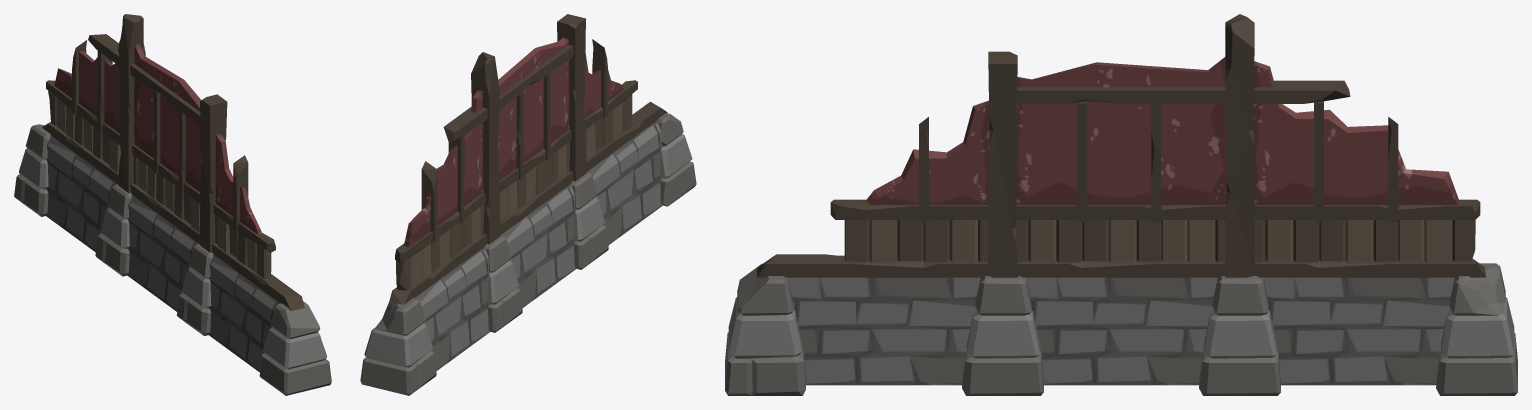
File: SM_Prop_Destroyed_House_Piece_05.fbx
3 renders of one model, left to right at view 1: azimuth 30°, elevation 25°; view 2: azimuth 150°, elevation 25°; view 3: azimuth 270°, elevation 25°, orthographic. The views are drawn at different scales.
Visible parts, largest first — view 1: SM_Prop_Destroyed_House_Piece_05; view 2: SM_Prop_Destroyed_House_Piece_05; view 3: SM_Prop_Destroyed_House_Piece_05.
Part boxes in pixels (bbox=[...]): SM_Prop_Destroyed_House_Piece_05: bbox=[14, 14, 331, 395]; SM_Prop_Destroyed_House_Piece_05: bbox=[360, 14, 696, 395]; SM_Prop_Destroyed_House_Piece_05: bbox=[725, 14, 1517, 395].
Bounding box in the file's own units: 85.25 × 420 × 836.
1 material, 1 textured.
